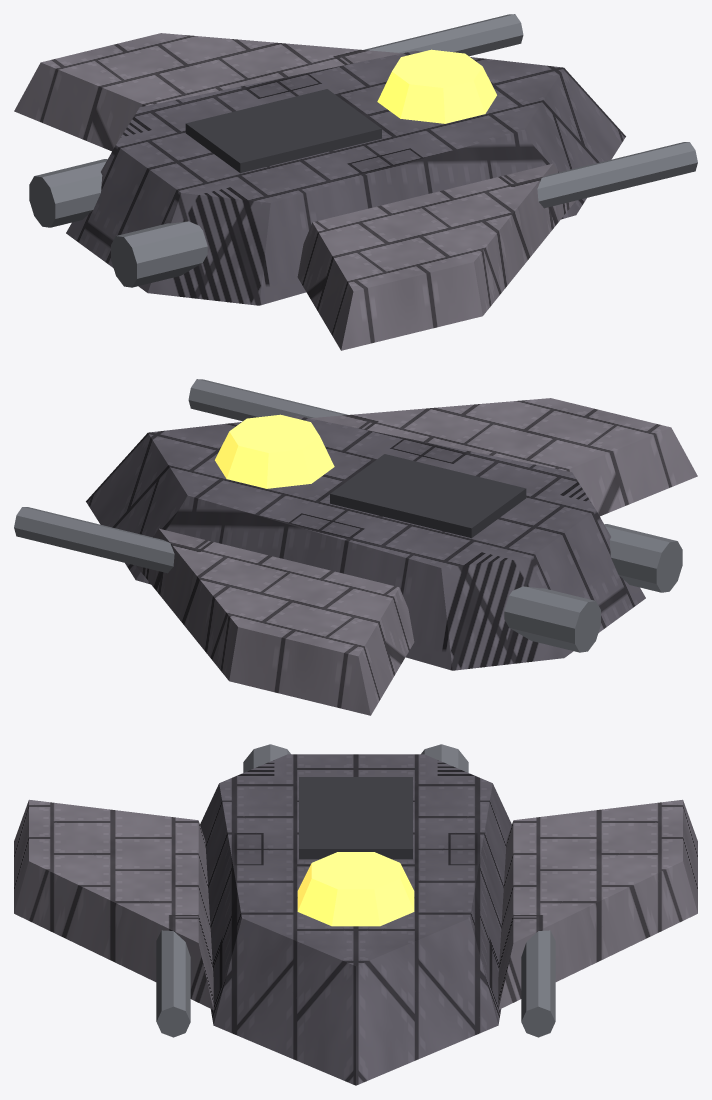
File: gunship_ember.glb
3 renders of one model, top to bottom at view 1: azimuth 30°, elevation 25°; view 2: azimuth 150°, elevation 25°; view 3: azimuth 270°, elevation 25°, orthographic. The views are drawn at different scales.
Bounding box in the file's own units: 23 × 4.6 × 24.
Materials: 6 (2 with a texture image).
